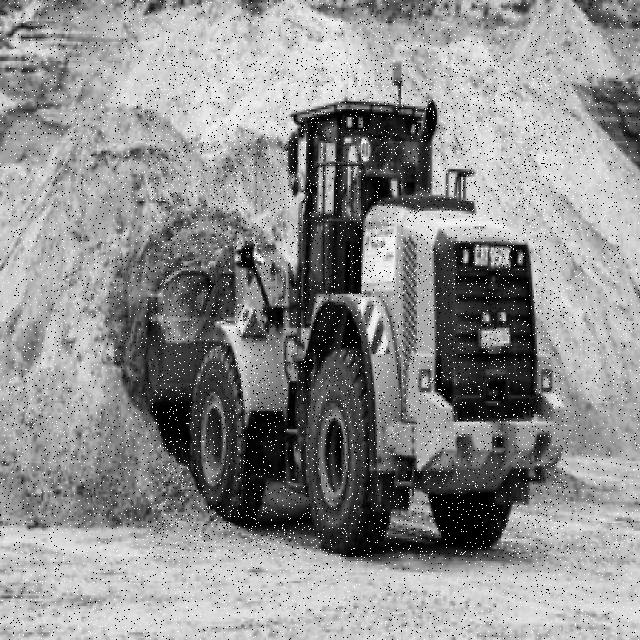Construction Equipment: (147, 60, 568, 559)
